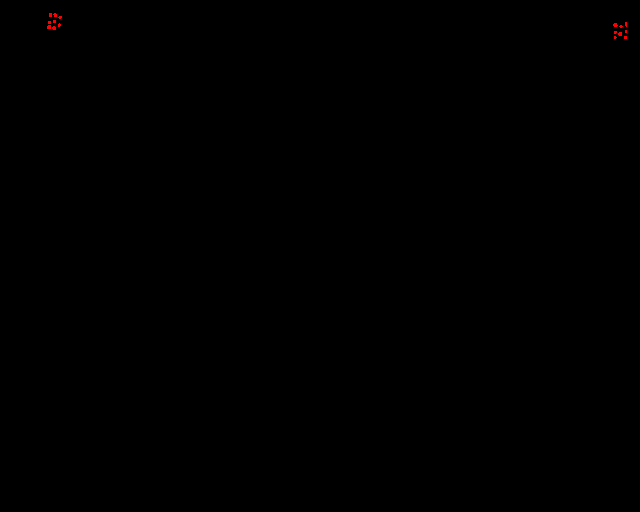Target: (613, 23, 618, 27), (53, 13, 57, 17), (47, 25, 51, 29), (52, 26, 56, 30), (618, 32, 622, 36), (49, 13, 52, 17), (58, 16, 62, 19), (58, 23, 61, 27), (619, 25, 623, 28), (625, 22, 627, 27), (53, 20, 56, 23), (48, 21, 51, 24), (614, 31, 617, 34), (614, 36, 617, 39), (624, 36, 627, 39), (625, 30, 627, 33)
